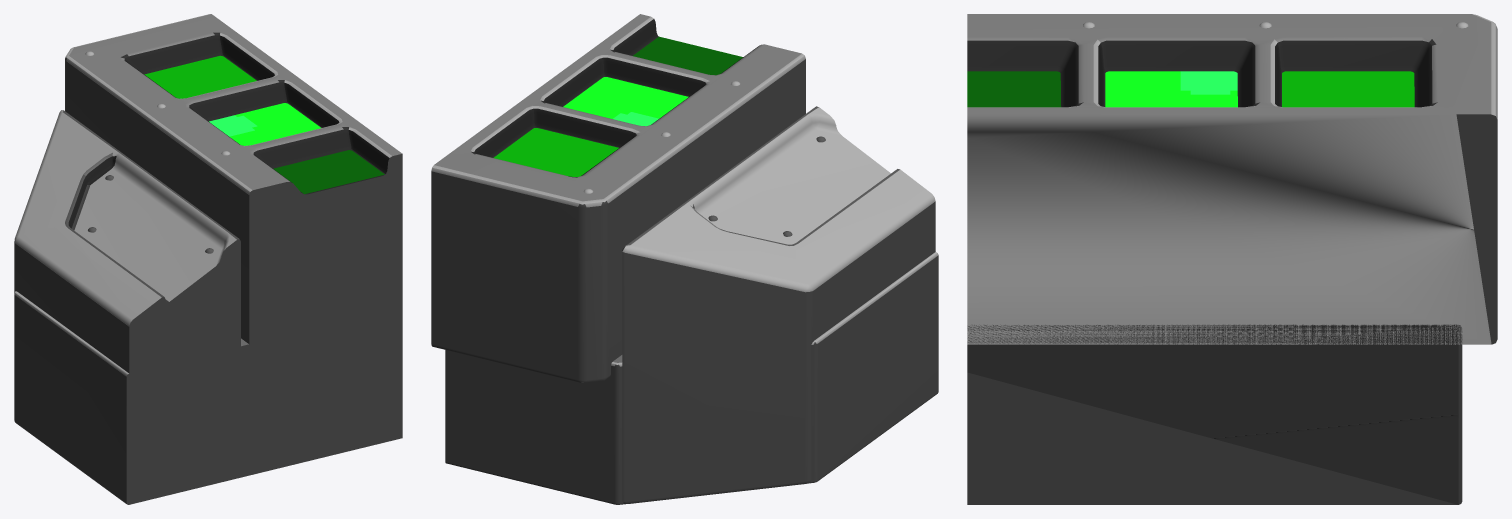
File: window_block_tl_9.glb
3 views of the same model, side by side, from view 1: azimuth 30°, elevation 25°; view 2: azimuth 150°, elevation 25°; view 3: azimuth 270°, elevation 25° (orthographic). The views are drawn at different scales.
Visible parts, largest first — view 1: tower.001, plinth.001, wing.001, glass0.001, glass1.001, glass2.001; view 2: wing.001, tower.001, plinth.001, glass1.001, glass0.001, glass2.001; view 3: tower.001, plinth.001, glass0.001, glass1.001, glass2.001.
Boxes of the visible parts, bbox=[...] form: tower.001: bbox=[65, 14, 402, 357]; plinth.001: bbox=[14, 291, 402, 504]; wing.001: bbox=[14, 110, 240, 502]; glass0.001: bbox=[144, 55, 256, 98]; glass1.001: bbox=[209, 103, 320, 145]; glass2.001: bbox=[273, 150, 384, 194]; wing.001: bbox=[622, 106, 935, 503]; tower.001: bbox=[431, 14, 805, 382]; plinth.001: bbox=[445, 252, 938, 504]; glass1.001: bbox=[563, 77, 688, 126]; glass0.001: bbox=[493, 128, 618, 176]; glass2.001: bbox=[633, 36, 742, 75]; tower.001: bbox=[967, 14, 1497, 344]; plinth.001: bbox=[967, 324, 1462, 504]; glass0.001: bbox=[1282, 71, 1414, 107]; glass1.001: bbox=[1105, 71, 1237, 107]; glass2.001: bbox=[967, 71, 1061, 107].
Bounding box in the file's own units: 19.8 × 19.64 × 24.
